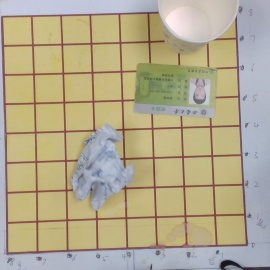card: (132, 63, 217, 116)
cup: (149, 1, 237, 56)
